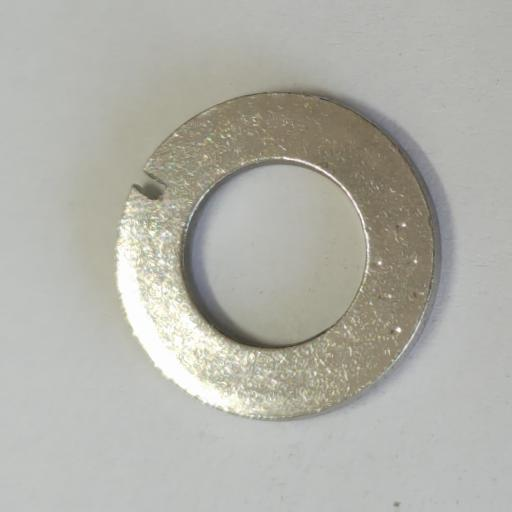burr: (130, 168, 169, 204)
